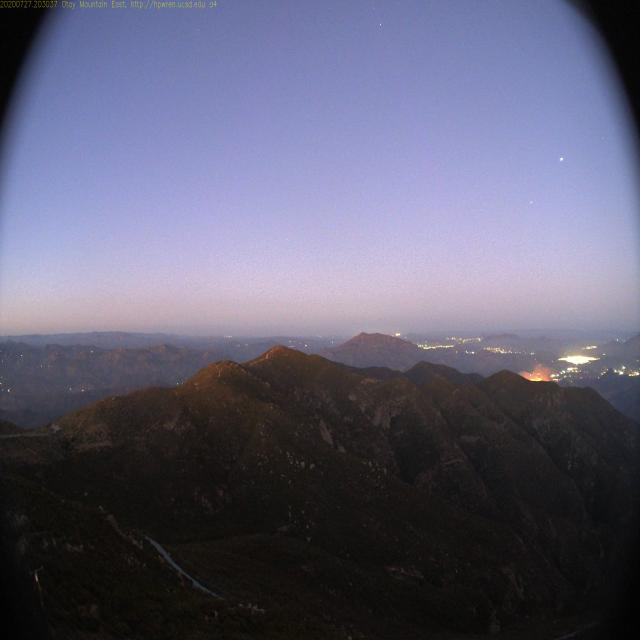smoke: (518, 358, 555, 390)
